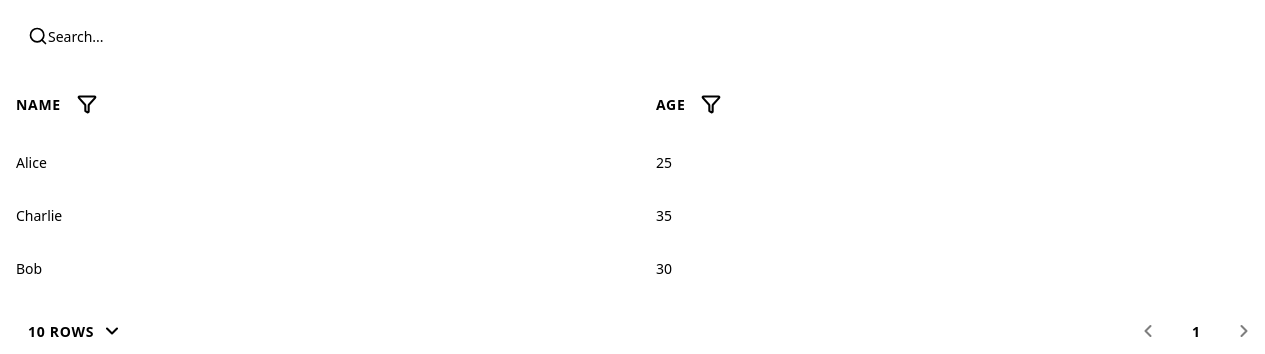
Table Component › should filter data
Type "Alice" into the field with placeholder "Search...".
click(160, 36); type("Alice")  # box top-left (16, 16), bottom-right (304, 56)
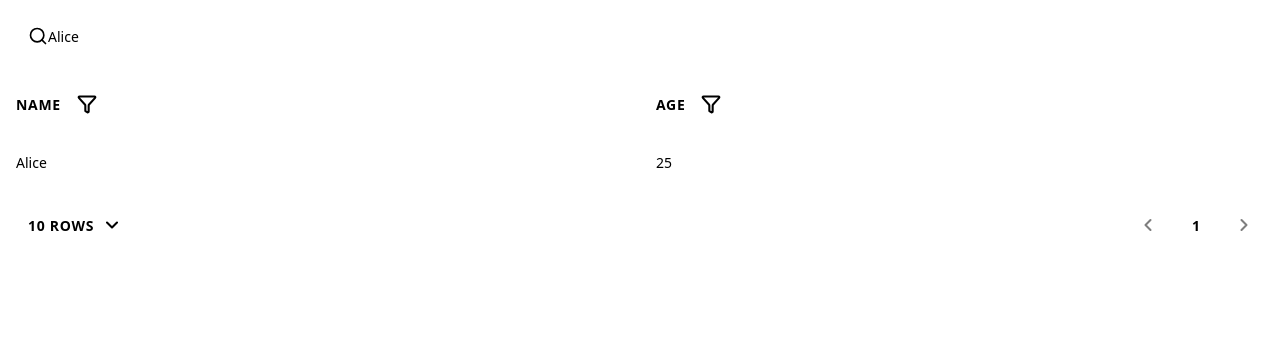
expect the text "Alice" is shown: met, box top-left (0, 136), bottom-right (640, 189)
expect the text "Bob" is gone: met
